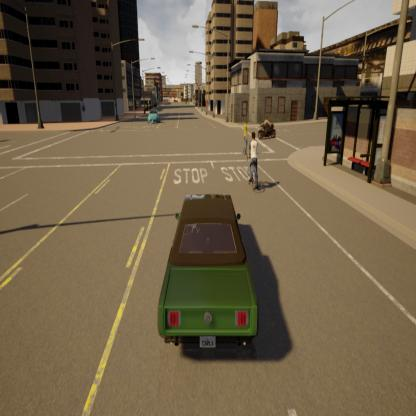Cars: (146, 178, 266, 364), (144, 106, 160, 127)
Pedestrian: (238, 118, 251, 160)
